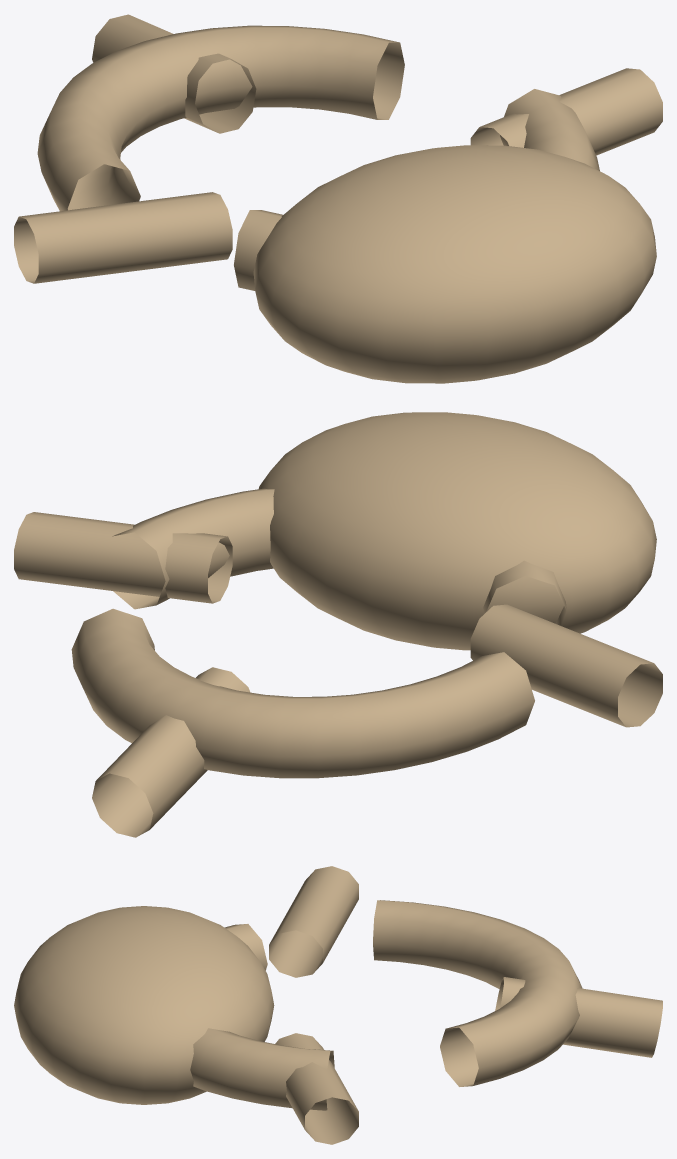
3 views of the same model, one above another, from view 1: azimuth 30°, elevation 25°; view 2: azimuth 150°, elevation 25°; view 3: azimuth 270°, elevation 25° (orthographic). The views are drawn at different scales.
Visible parts, largest first — view 1: c3:centrum, c3:neural-arch--1, c3:transverse--1, c3:transverse-1, c3:neural-arch-1, c3:spinous-process; view 2: c3:centrum, c3:neural-arch--1, c3:transverse-1, c3:transverse--1, c3:spinous-process, c3:neural-arch-1; view 3: c3:centrum, c3:neural-arch--1, c3:neural-arch-1, c3:transverse--1, c3:spinous-process, c3:transverse-1.
Part boxes in pixels (x1,y1,x2,y2): c3:centrum: (253, 145, 656, 383); c3:neural-arch--1: (37, 25, 404, 211); c3:transverse--1: (14, 192, 232, 283); c3:transverse-1: (470, 68, 662, 155); c3:neural-arch-1: (234, 89, 599, 290); c3:spinous-process: (92, 14, 256, 133); c3:centrum: (258, 412, 656, 650); c3:neural-arch--1: (71, 608, 534, 778); c3:transverse-1: (14, 512, 232, 603); c3:transverse--1: (470, 604, 662, 727); c3:spinous-process: (92, 667, 250, 837); c3:neural-arch-1: (112, 488, 566, 625); c3:centrum: (14, 906, 274, 1104); c3:neural-arch--1: (373, 900, 582, 1086); c3:neural-arch-1: (190, 924, 334, 1110); c3:transverse--1: (269, 866, 358, 977); c3:spinous-process: (495, 977, 662, 1057); c3:transverse-1: (275, 1033, 358, 1144).
Size of the model in its own units: 0.135 by 0.0383 by 0.1575.
